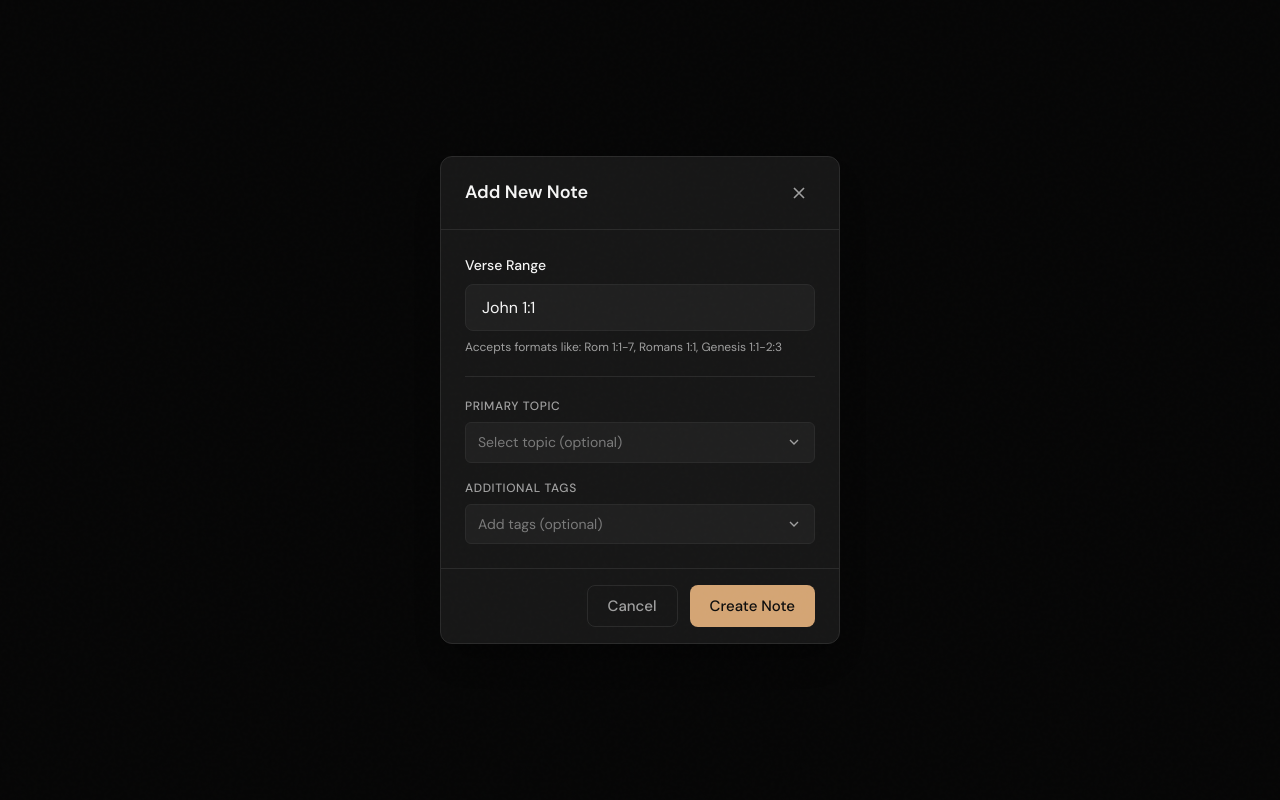
Scenario: AddNoteModal › validation › clears error when input changes
Step 1. Replace the text in the field with placeholder "e.g., Romans 1:1-7" with "invalid" → (640, 308), box [465, 284, 815, 331]
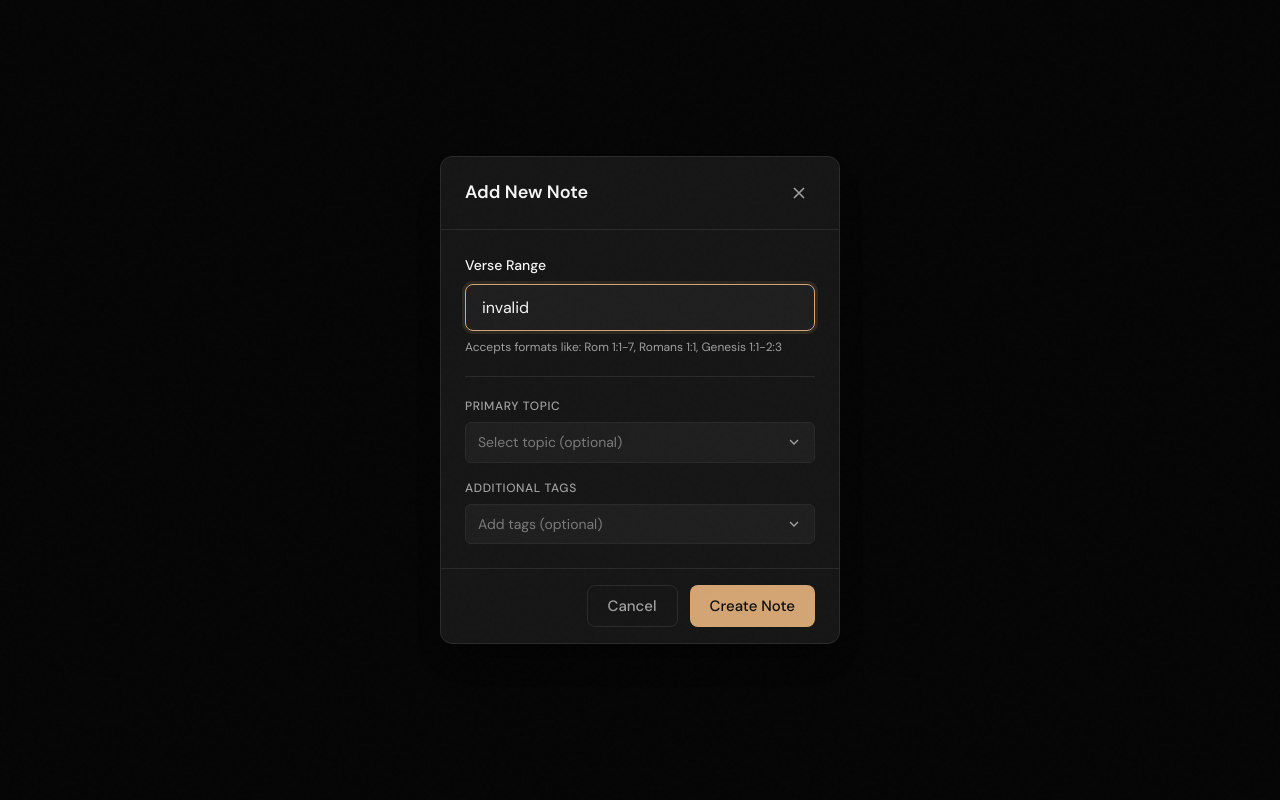
Step 2. Click the button "Create Note" → (752, 606), box [690, 585, 815, 627]
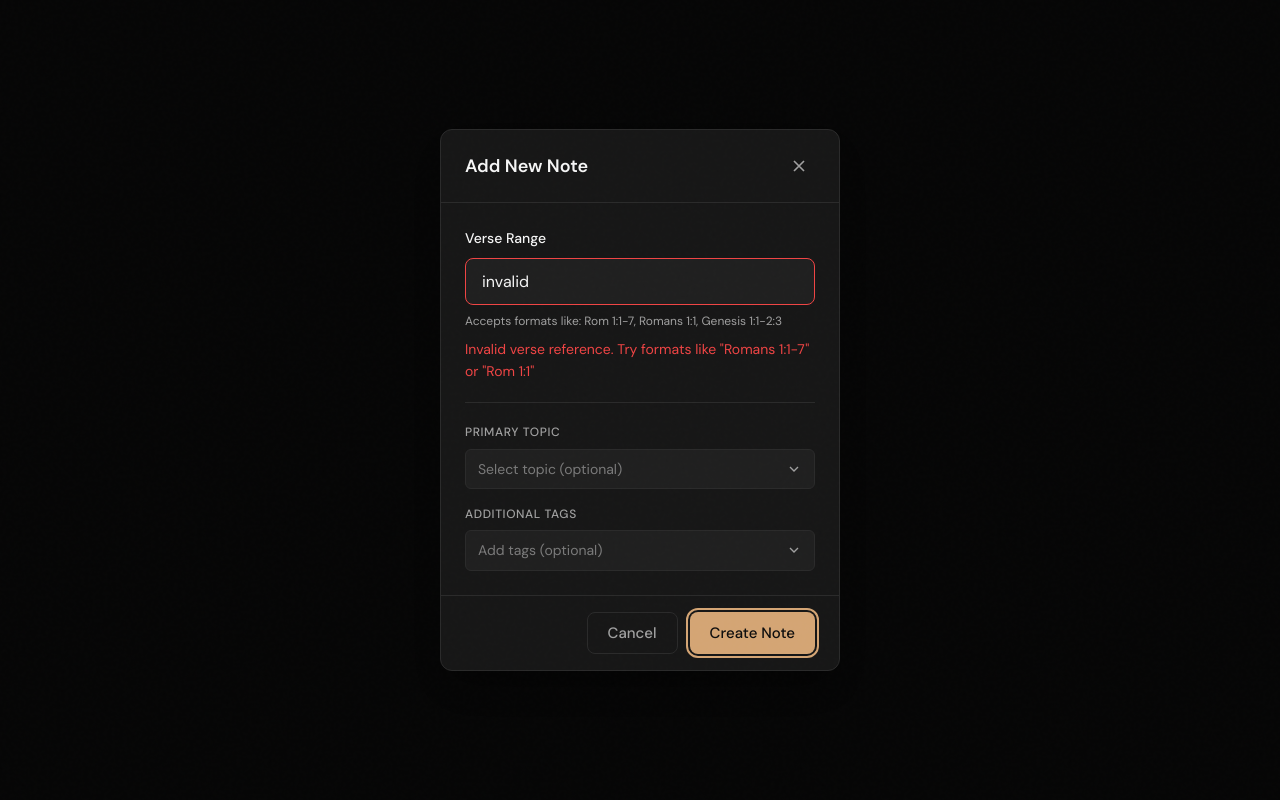
Check: the text "Invalid verse reference" is shown, box [465, 340, 809, 380]
Step 3. Type " something" into the field with placeholder "e.g., Romans 1:1-7" → (640, 281), box [465, 258, 815, 305]
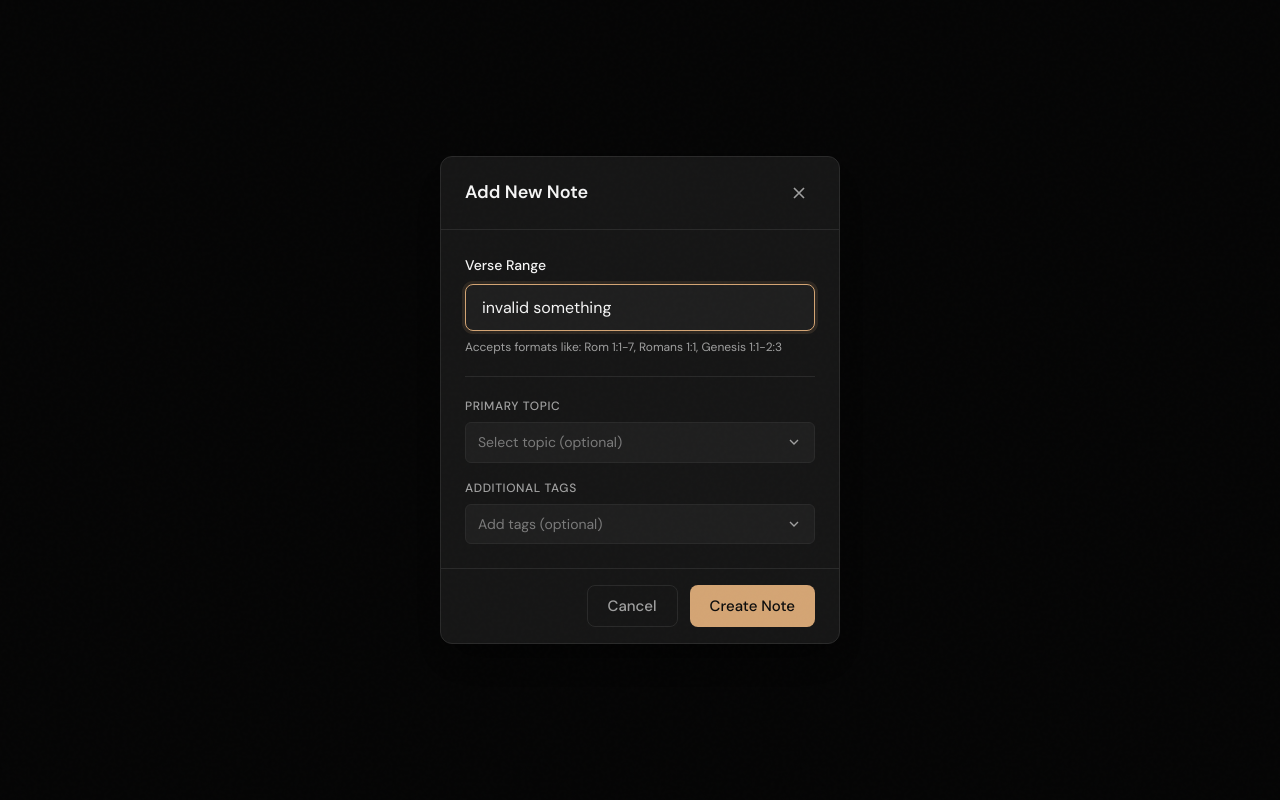
Check: the text "Invalid verse reference" is gone
